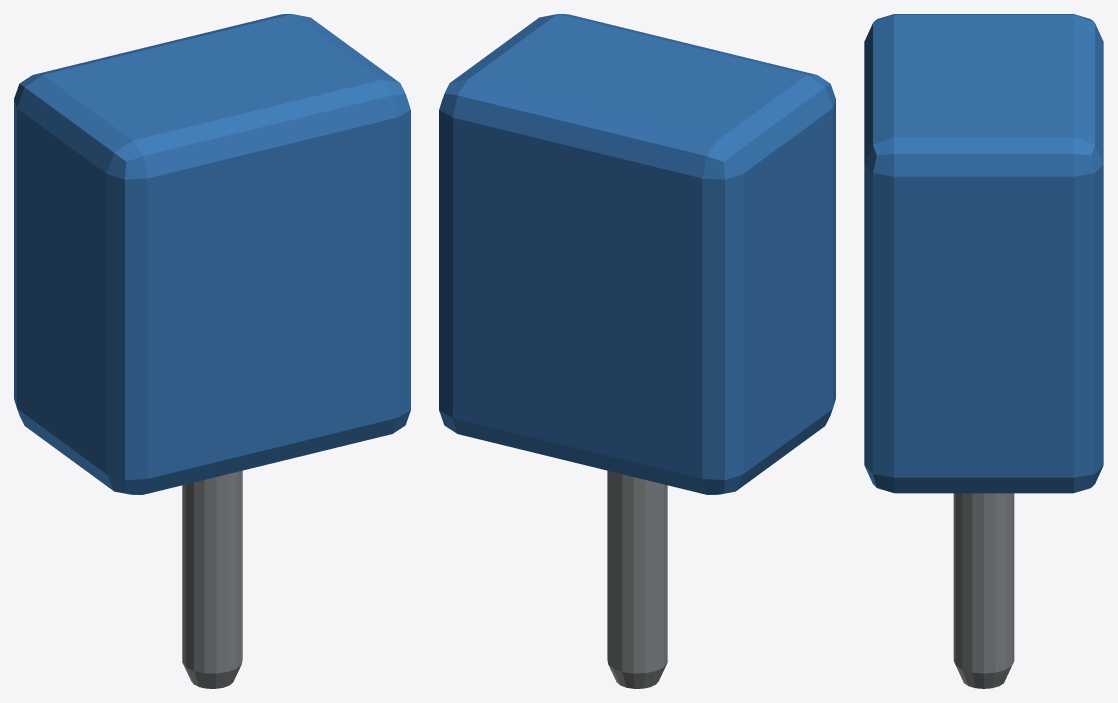
Rendered from Prop_Street_007.glb.
The picture shows the model from 3 angles, left to right: view 1: azimuth 30°, elevation 25°; view 2: azimuth 150°, elevation 25°; view 3: azimuth 270°, elevation 25°; orthographic projection.
Parts seen in each view (by area): view 1: Prop_Street_007; view 2: Prop_Street_007; view 3: Prop_Street_007.
Boxes of the visible parts, box(x1,y1,x2,y2) form: Prop_Street_007: box(14, 14, 410, 688); Prop_Street_007: box(439, 14, 835, 688); Prop_Street_007: box(864, 14, 1103, 688).
Size of the model in its own units: 0.8 by 1.55 by 0.55.
